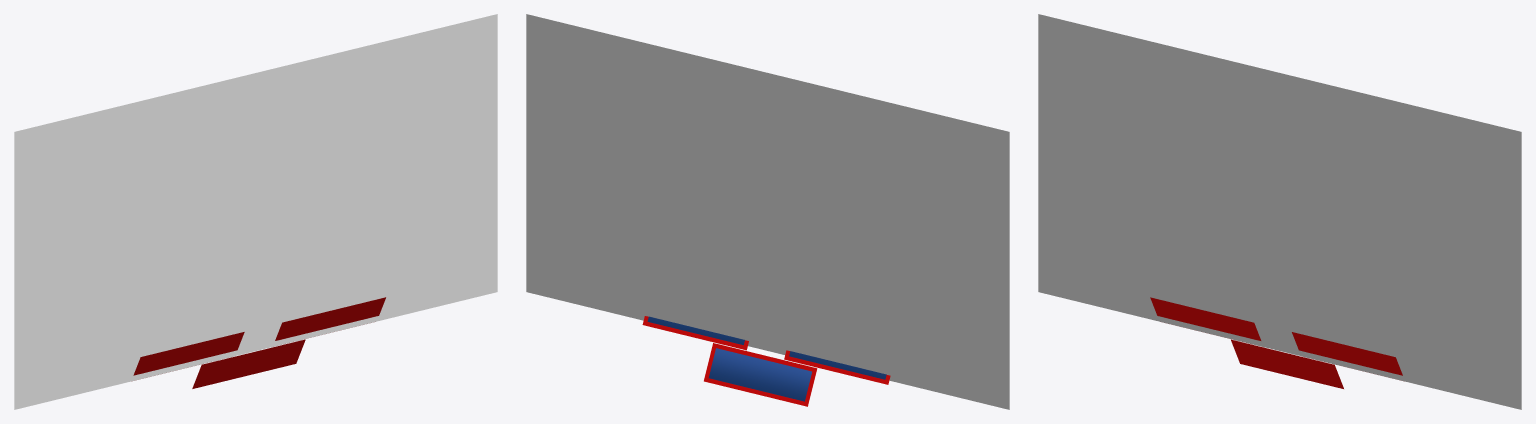
File: LanguageScreen.fbx
The picture shows the model from 3 angles, left to right: view 1: azimuth 30°, elevation 25°; view 2: azimuth 150°, elevation 25°; view 3: azimuth 330°, elevation 25°; orthographic projection.
Parts seen in each view (by area): view 1: BoxHighlight, Highlight (×3); view 2: BoxHighlight, Quad (×3), Highlight (×3); view 3: BoxHighlight, Highlight (×3).
Part boxes in pixels (x1,y1,x2,y2): BoxHighlight: (14,14,497,409); Highlight (×3): (133,297,385,388); BoxHighlight: (526,14,1009,409); Quad (×3): (647,316,886,401); Highlight (×3): (642,316,890,406); BoxHighlight: (1038,14,1521,409); Highlight (×3): (1150,297,1402,388).
Size of the model in its own units: 8.19 by 5.06 by 0.5665.
Materials: 3 (2 with a texture image).
